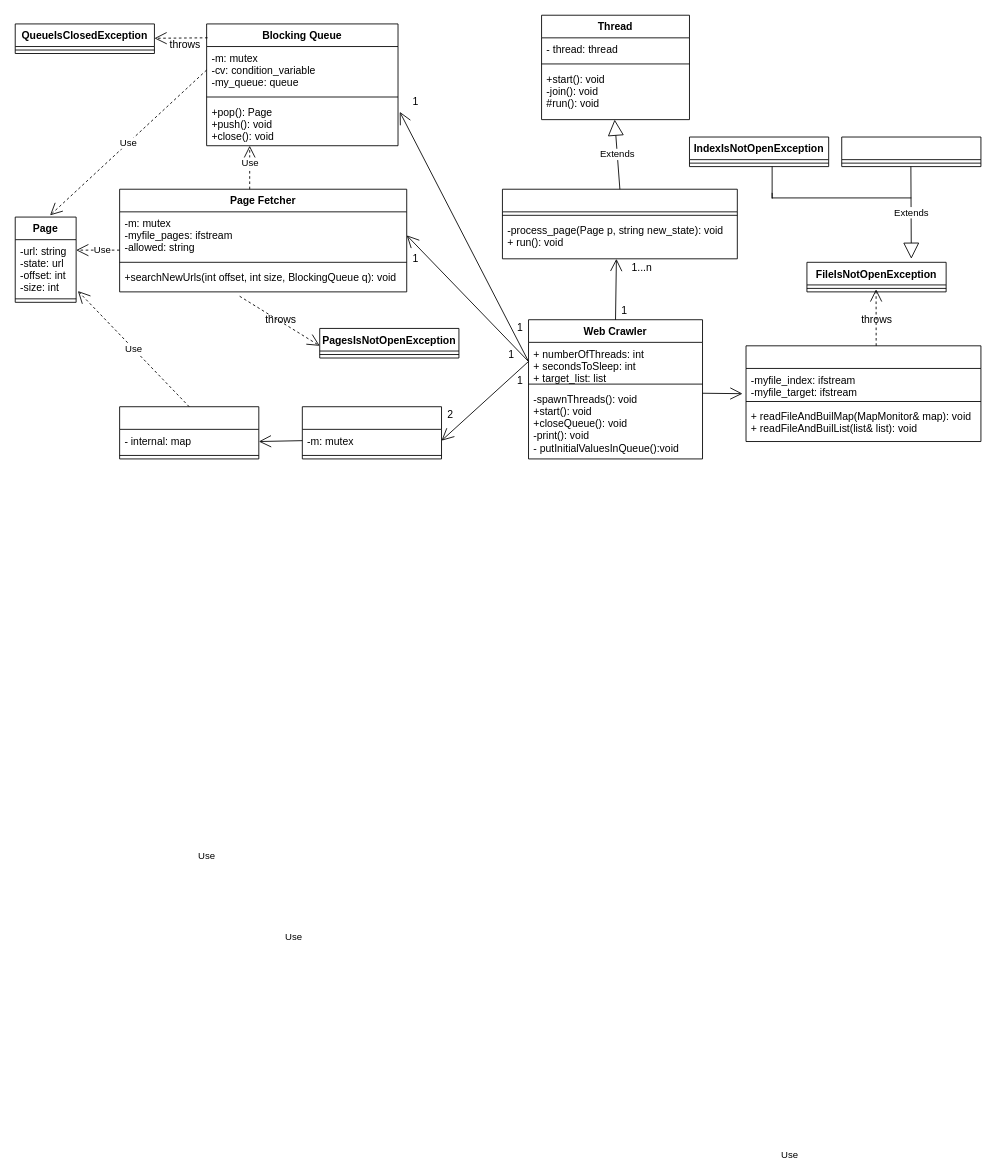
Some shapes in this 996 by 1176 pixel diagram are drawn without their labels. The box of each missing label's shape, as (x1, y1, x2, y2) in pixels:
File Reader: (745, 345, 981, 442)
Map Monitor: (301, 406, 442, 459)
Protected Map: (119, 406, 259, 459)
TargetIsNotOpenException: (841, 136, 981, 167)
Thread Worker: (502, 188, 737, 259)
